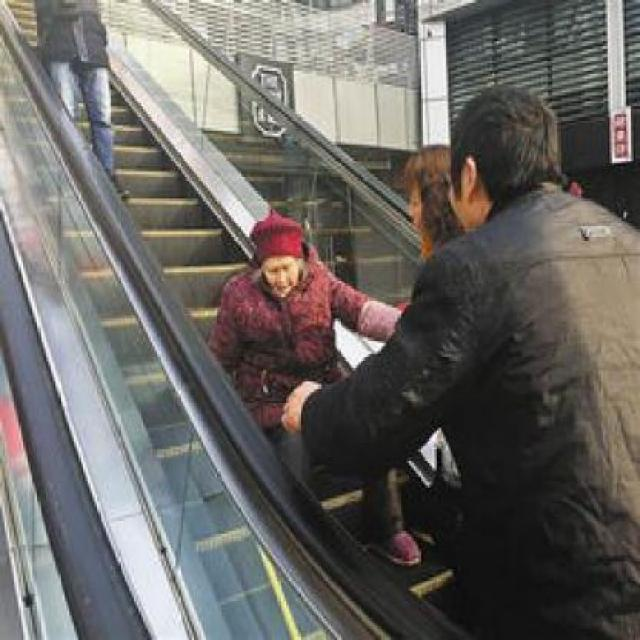fall: (197, 202, 386, 488)
